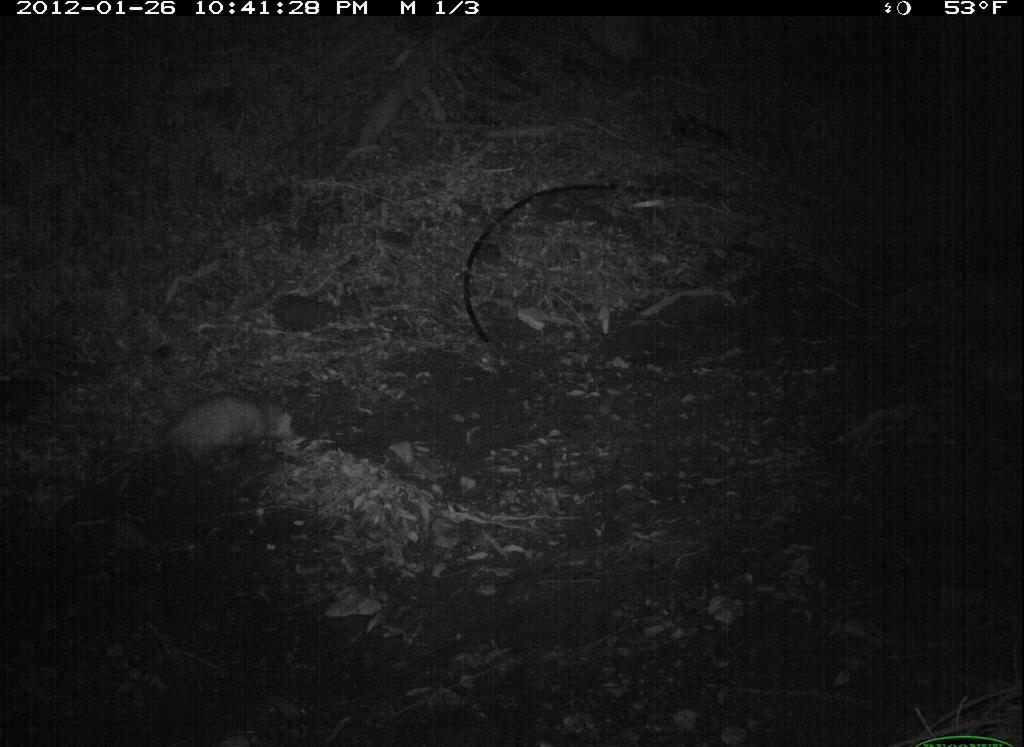opossum: (102, 393, 299, 482)
